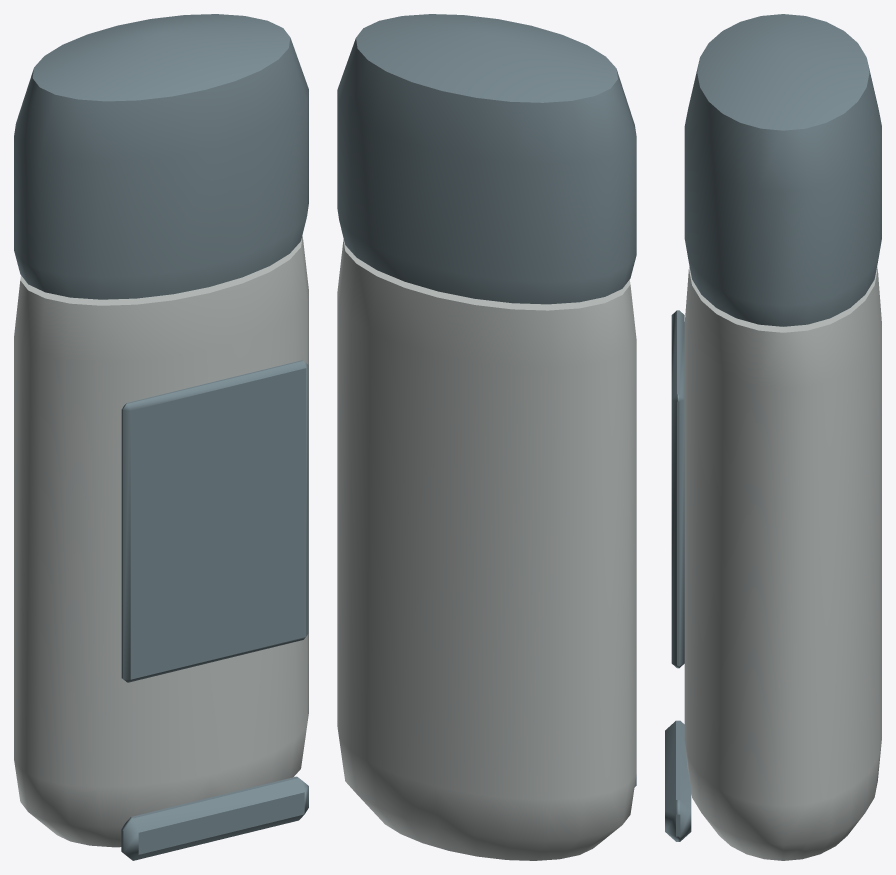
The model's file is deodorant.glb.
3 renders of one model, left to right at view 1: azimuth 30°, elevation 25°; view 2: azimuth 150°, elevation 25°; view 3: azimuth 270°, elevation 25°, orthographic. The views are drawn at different scales.
Visible parts, largest first — view 1: oval_container, fitted_cap, label, twist_wheel; view 2: oval_container, fitted_cap; view 3: oval_container, fitted_cap, label, twist_wheel.
Boxes of the visible parts, x1,y1,x2,y2 form: oval_container: (14, 235, 308, 847); fitted_cap: (14, 14, 308, 299); label: (121, 360, 308, 682); twist_wheel: (121, 776, 308, 860); oval_container: (337, 239, 636, 860); fitted_cap: (337, 14, 636, 304); oval_container: (684, 266, 881, 860); fitted_cap: (684, 14, 881, 326); label: (671, 310, 684, 668); twist_wheel: (665, 720, 691, 841).
Bounding box in the file's own units: 0.048 × 0.128 × 0.033.
